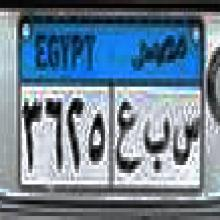2: (66, 94, 84, 176)
3: (22, 94, 42, 176)
5: (88, 113, 107, 170)
6: (44, 96, 63, 173)
ain: (115, 97, 141, 176)
baa: (142, 119, 170, 179)
seen: (172, 109, 199, 171)
